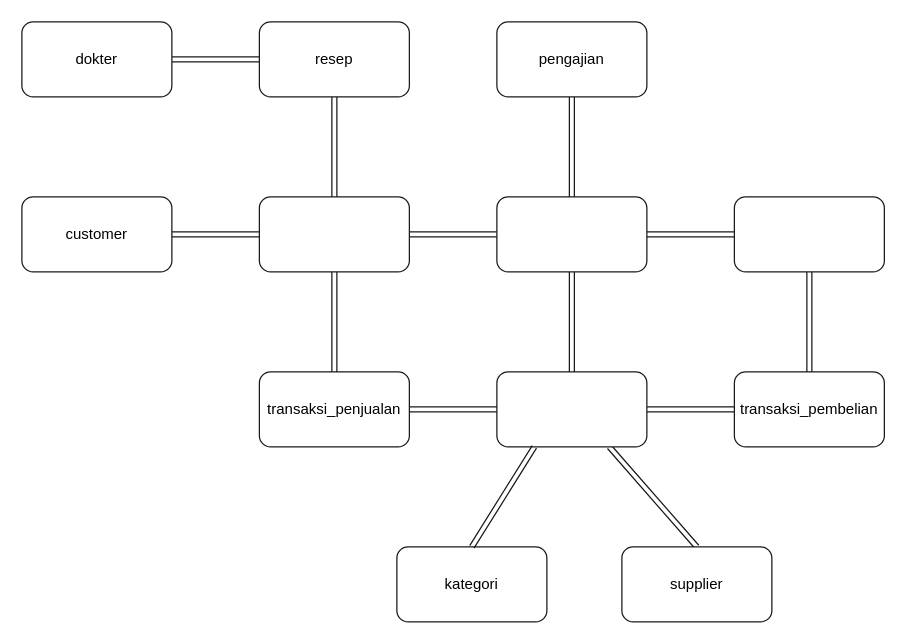
This 906x644 diagram has some shape labels left out. Each missing label, with the centre of its shape:
"obat" goes at point (571, 409).
"pegawai" goes at point (571, 234).
"pembelian" goes at point (808, 234).
"penjualan" goes at point (333, 234).
